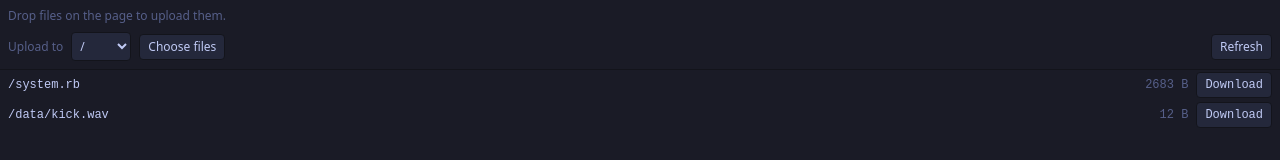
Test case: FilesPanel › says so when the listing is re-read by hand
Step 1. Click the button "Refresh" → click(1242, 46), box [1211,34,1272,60]
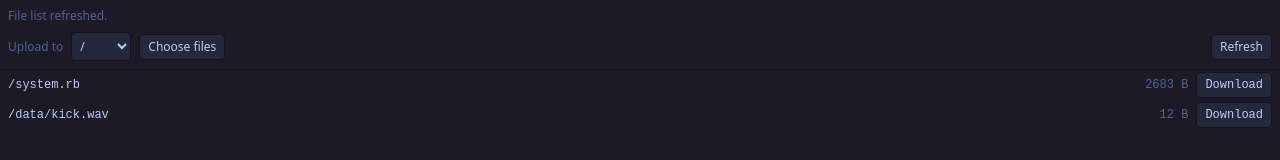
Check: the text "File list refreshed." is shown, box [8,7,107,24]
